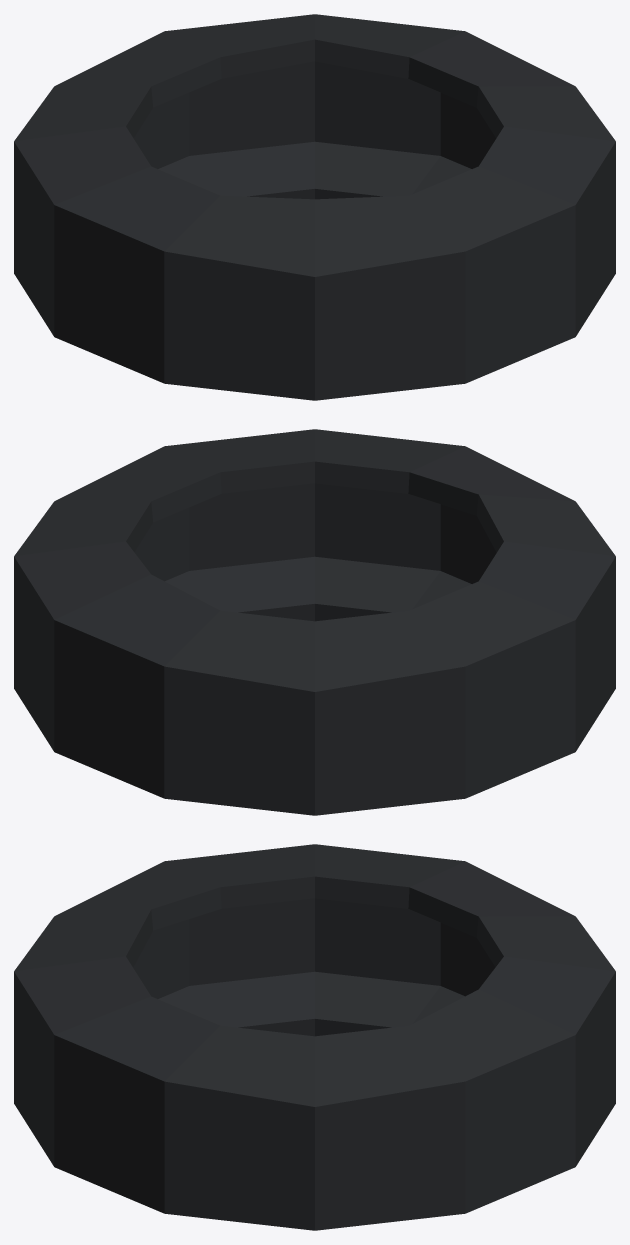
The model's file is SM_Prop_Tire_01.fbx.
3 views of the same model, one above another, from view 1: azimuth 30°, elevation 25°; view 2: azimuth 150°, elevation 25°; view 3: azimuth 270°, elevation 25° (orthographic).
Visible parts, largest first — view 1: SM_Prop_Tire_01; view 2: SM_Prop_Tire_01; view 3: SM_Prop_Tire_01.
Part boxes in pixels (bbox=[...]): SM_Prop_Tire_01: bbox=[14, 14, 615, 400]; SM_Prop_Tire_01: bbox=[14, 429, 615, 815]; SM_Prop_Tire_01: bbox=[14, 844, 615, 1230].
Size of the model in its own units: 72.45 by 22.45 by 72.45.
